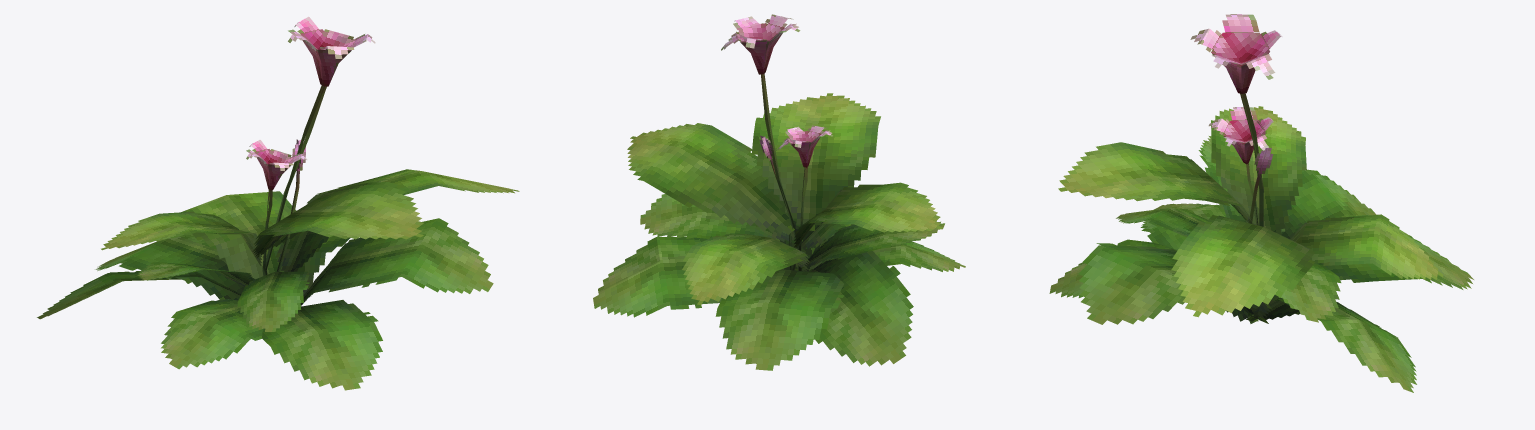
File: S_Plant_Green013.FBX
3 views of the same model, side by side, from view 1: azimuth 30°, elevation 25°; view 2: azimuth 150°, elevation 25°; view 3: azimuth 270°, elevation 25° (orthographic). The views are drawn at different scales.
Parts seen in each view (by area): view 1: S_Plant_Green013; view 2: S_Plant_Green013; view 3: S_Plant_Green013.
Part boxes in pixels (x1=…): S_Plant_Green013: x1=37, y1=16, x2=519, y2=390; S_Plant_Green013: x1=593, y1=14, x2=965, y2=370; S_Plant_Green013: x1=1049, y1=14, x2=1473, y2=392.
Bounding box in the file's own units: 107 × 75.54 × 97.63.
